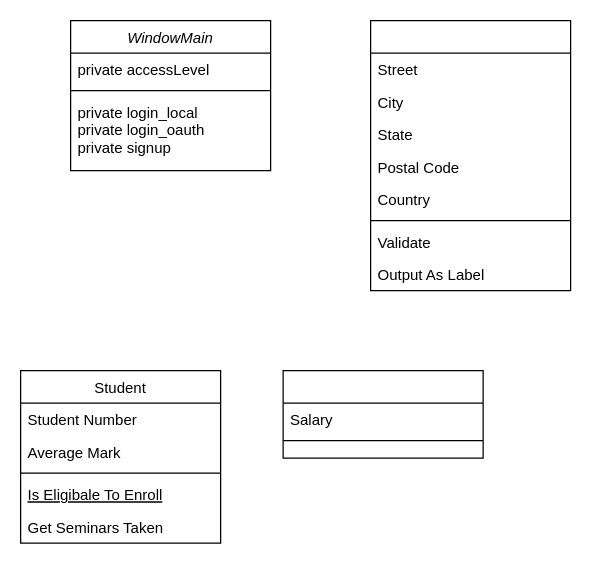
This 591x564 diagram has some shape labels left out. Here are the shapes that lost their labels. From the top down, the box of each, then its label:
(369, 19, 571, 291): Address
(282, 369, 483, 458): Professor
